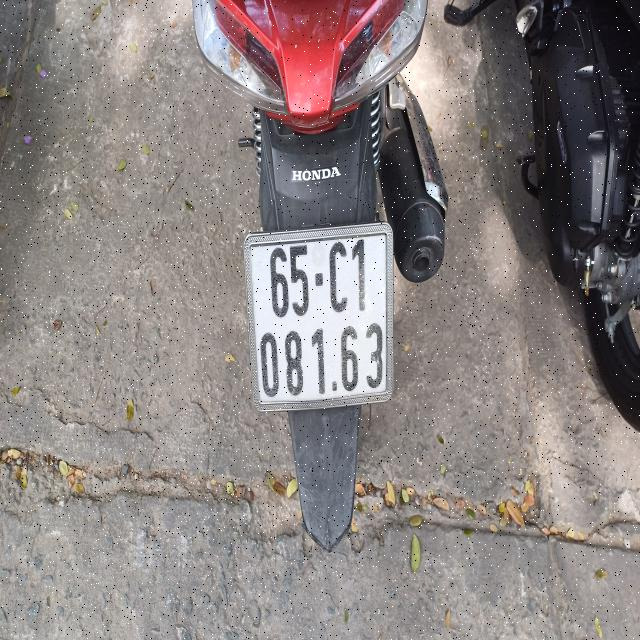0: (258, 330, 280, 401)
1: (352, 238, 369, 310), (311, 326, 326, 396)
3: (366, 322, 384, 392)
5: (288, 242, 310, 318)
6: (269, 245, 289, 319), (341, 325, 360, 393)
8: (282, 328, 307, 397)
C: (330, 240, 348, 315)
